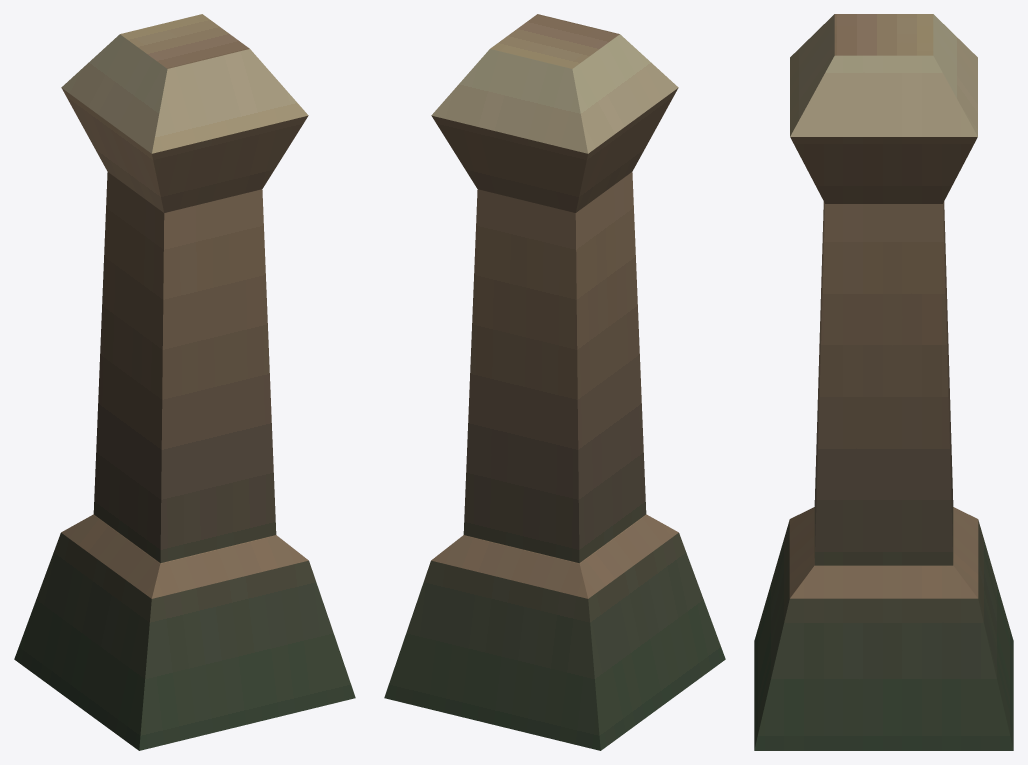
Rendered from Ballustrade_Pole_Low.FBX.
3 views of the same model, side by side, from view 1: azimuth 30°, elevation 25°; view 2: azimuth 150°, elevation 25°; view 3: azimuth 270°, elevation 25° (orthographic). The views are drawn at different scales.
Parts seen in each view (by area): view 1: Ballustrade_Pole_Low; view 2: Ballustrade_Pole_Low; view 3: Ballustrade_Pole_Low.
Boxes of the visible parts, <box> form: Ballustrade_Pole_Low: <box>14,14,355,750</box>; Ballustrade_Pole_Low: <box>384,14,725,750</box>; Ballustrade_Pole_Low: <box>754,14,1013,750</box>.
Size of the model in its own units: 0.0451 by 0.0451 by 0.1269.
